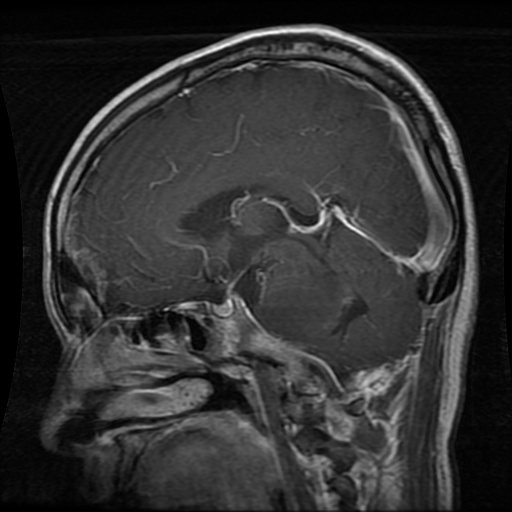glioma: (252, 270, 346, 340)
